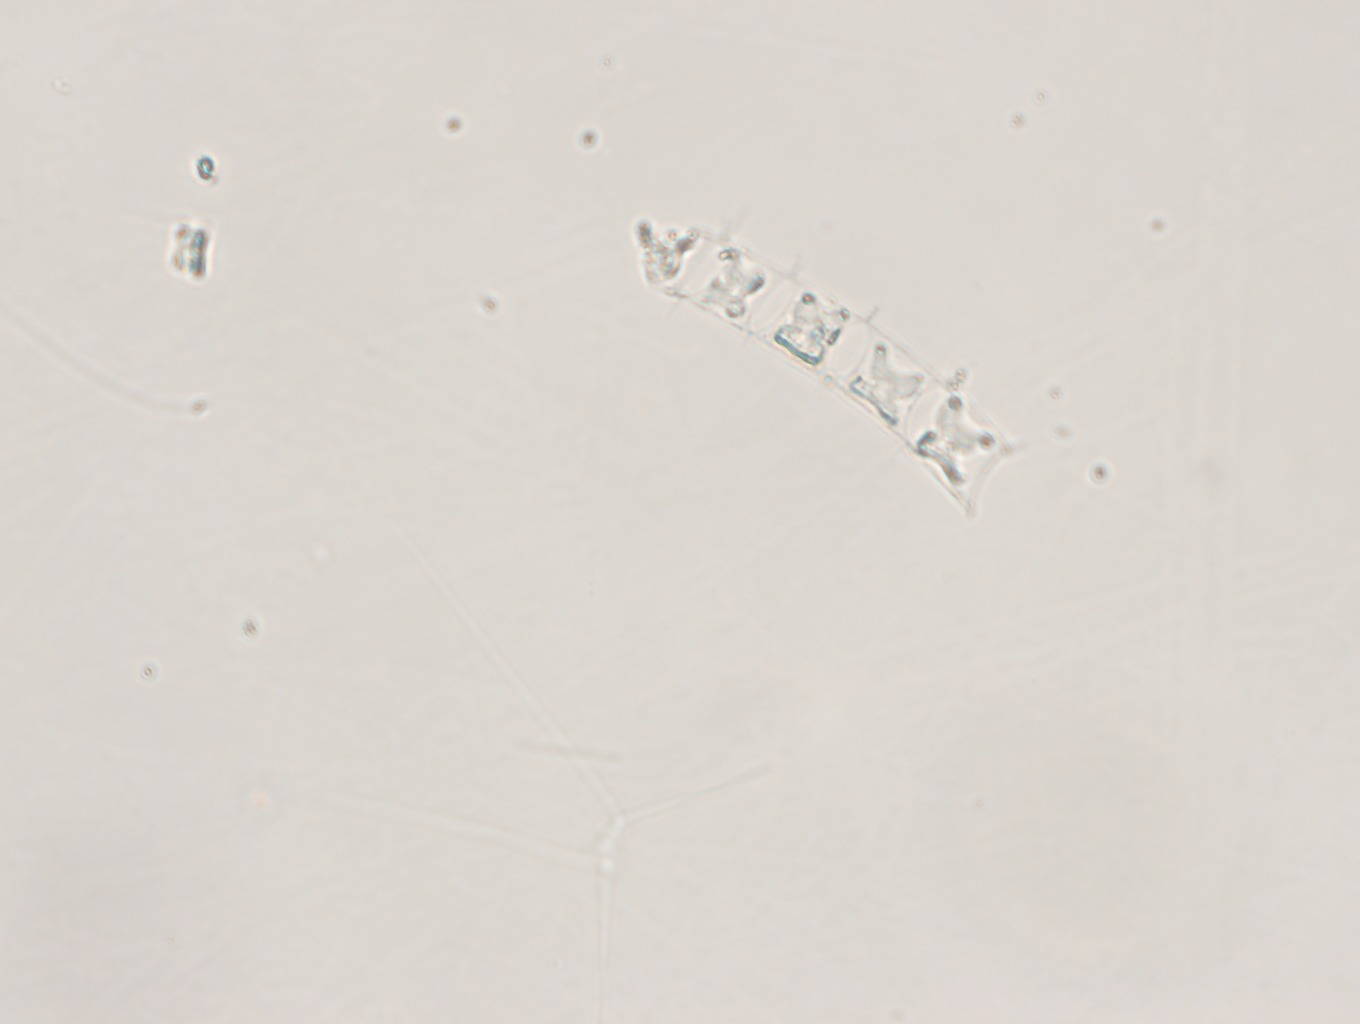eucampia: (614, 198, 1053, 535)
